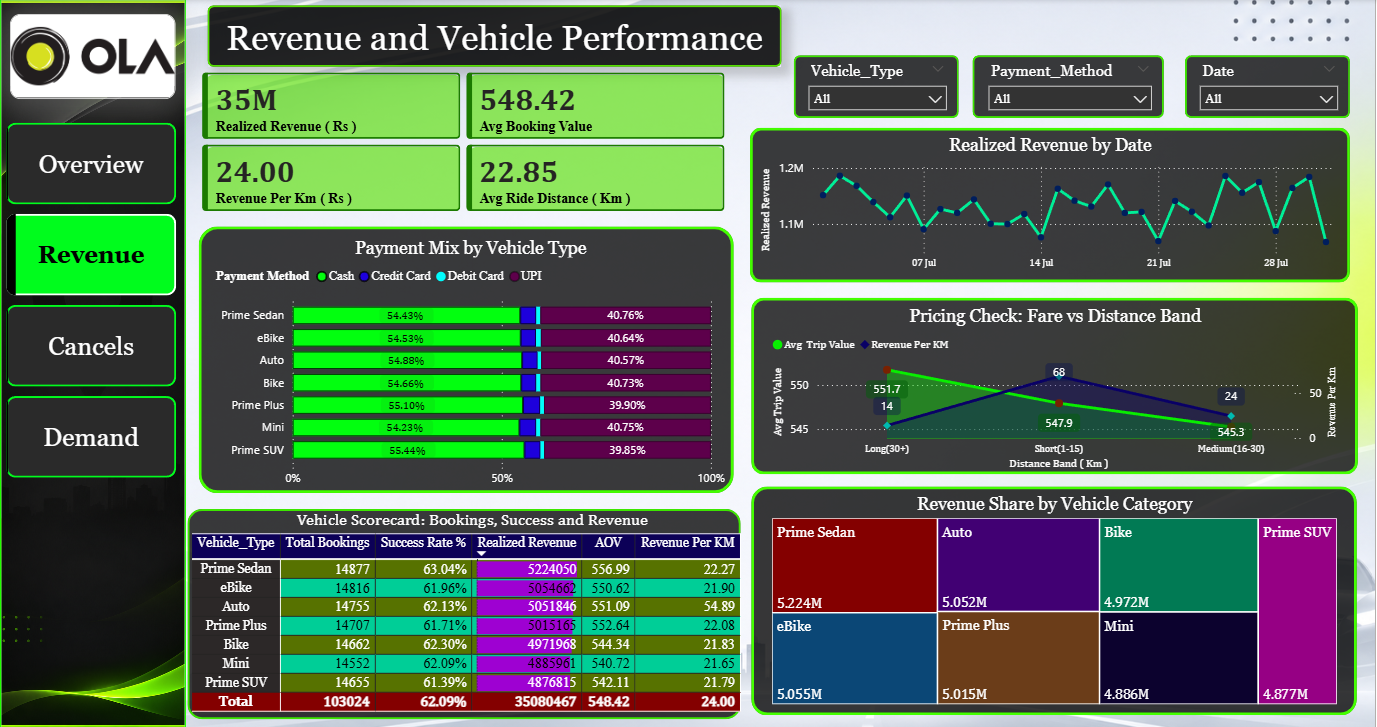

What the dashboard file says about the page in this screenshot:
{"tool":"powerbi","page":{"name":"Revenue","canvas":[1450,768],"ordinal":1},"visuals":[{"type":"image","box":[0,0,195.7,768.6],"z":0,"group":"g10"},{"type":"shape","box":[791.4,514.3,638.1,241.2],"z":0,"group":"g3"},{"type":"shape","box":[197.1,537.1,582.9,221.4],"z":0},{"type":"group","id":"g1","title":"Group 4","box":[0,0,195.7,768.6],"z":1000},{"type":"image","box":[10.5,16,174.8,89.5],"z":1000,"group":"g10"},{"type":"group","id":"g2","title":"Group 5","box":[218.7,6,605.2,65],"z":2000},{"type":"shape","box":[218.7,6,605.2,65],"z":2000,"group":"g2"},{"type":"textbox","box":[221.4,13.4,599.8,57.6],"z":3000,"group":"g2"},{"type":"cardVisual","fields":{"Data":["olaBookings_SQL_ready.Realized Revenue","olaBookings_SQL_ready.AOV","olaBookings_SQL_ready.Revenue Per KM","olaBookings_SQL_ready.Avg Ride Distance"]},"box":[195.7,60,584.3,180],"z":3000},{"type":"shape","box":[790.9,135.1,632.4,163],"z":4000,"group":"g7"},{"type":"shape","box":[210,240,563.6,280.9],"z":4000,"group":"g4"},{"type":"shape","box":[791.4,314.3,639.3,186],"z":4000,"group":"g5"},{"type":"pivotTable","title":"Vehicle Scorecard: Bookings, Success and Revenue","fields":{"Rows":["olaBookings_SQL_ready.Vehicle_Type"],"Values":["olaBookings_SQL_ready.Total Bookings","olaBookings_SQL_ready.Success Rate %","olaBookings_SQL_ready.Realized Revenue","olaBookings_SQL_ready.AOV","olaBookings_SQL_ready.Revenue Per KM"]},"box":[197.4,537,600.5,230.8],"z":4000},{"type":"hundredPercentStackedBarChart","title":"Payment Mix by Vehicle Type","fields":{"Category":["olaBookings_SQL_ready.Vehicle_Type"],"Series":["olaBookings_SQL_ready.Payment_Method"],"Y":["olaBookings_SQL_ready.Successful Bookings"]},"box":[223.3,251.7,546.7,271.7],"z":5000,"group":"g4"},{"type":"group","id":"g3","title":"Group 1","box":[791.4,514.3,638.6,241.4],"z":5000},{"type":"treemap","title":"Revenue Share by Vehicle Category","fields":{"Group":["olaBookings_SQL_ready.Vehicle_Type"],"Values":["olaBookings_SQL_ready.Realized Revenue"]},"box":[808.7,522.2,605.1,226.6],"z":5000,"group":"g3"},{"type":"group","id":"g4","title":"Group 2","box":[210,240,563.6,283.3],"z":6000},{"type":"areaChart","title":"Pricing Check: Fare vs Distance Band","fields":{"Category":["olaBookings_SQL_ready.Distance Band"],"Y":["olaBookings_SQL_ready.AOV"],"Y2":["olaBookings_SQL_ready.Revenue Per KM"]},"box":[808.8,324,606.3,176.3],"z":6000,"group":"g5"},{"type":"lineChart","fields":{"Category":["olaBookings_SQL_ready.Date.Variation.Date Hierarchy.Day"],"Y":["olaBookings_SQL_ready.Realized Revenue"]},"box":[797.4,143.1,619.6,150.1],"z":7000,"group":"g7"},{"type":"group","id":"g5","title":"Group 3","box":[791.4,314.3,638.6,185.7],"z":7000},{"type":"group","id":"g6","title":"Group 3","box":[836.4,59.7,174,66.1],"z":8000,"group":"g8"},{"type":"group","id":"g7","title":"Group 6","box":[790.9,135.1,632.5,162.3],"z":8000},{"type":"group","id":"g8","title":"Group 7","box":[836.4,59.7,587,66.2],"z":9000},{"type":"shape","box":[836.4,59.7,174,66.1],"z":9000,"group":"g6"},{"type":"group","id":"g9","title":"Group 3","box":[1024.9,59.7,201.7,66.1],"z":9000,"group":"g8"},{"type":"shape","box":[1024.9,59.7,201.7,66.1],"z":9000,"group":"g9"},{"type":"shape","box":[1248.9,59.7,174,66.1],"z":9000,"group":"g11"},{"type":"group","id":"g10","title":"Group 8","box":[0,0,195.7,768.6],"z":9001,"group":"g1"},{"type":"group","id":"g11","title":"Group 3","box":[1248.9,59.7,174,66.1],"z":10000,"group":"g8"},{"type":"slicer","fields":{"Values":["olaBookings_SQL_ready.Vehicle_Type"]},"box":[841.7,61.7,166.1,60.2],"z":10000,"group":"g6"},{"type":"slicer","fields":{"Values":["olaBookings_SQL_ready.Payment_Method"]},"box":[1031,61.7,192.5,60.2],"z":10000,"group":"g9"},{"type":"slicer","fields":{"Values":["dim_date.Date.Variation.Date Hierarchy.Day"]},"box":[1254.2,61.7,166.1,60.2],"z":10000,"group":"g11"},{"type":"pageNavigator","box":[7,130.3,179.4,376.9],"z":10000},{"type":"actionButton","box":[9.8,419,175.2,88.3],"z":11000},{"type":"actionButton","box":[8.4,319.5,175.2,88.3],"z":12000},{"type":"actionButton","box":[8.4,130.3,175.2,88.3],"z":13000}]}

Visuals, with their boxes in screenshot pixels (x1, y1, x2, y2), scaled from the page's 1450x768 canvas onto the 1377x727 screenshot:
image: rect(0, 0, 186, 726)
shape: rect(752, 487, 1358, 715)
shape: rect(187, 508, 741, 718)
"Group 4" group: rect(0, 0, 186, 726)
image: rect(10, 15, 176, 100)
"Group 5" group: rect(208, 6, 782, 67)
shape: rect(208, 6, 782, 67)
textbox: rect(210, 13, 780, 67)
cardVisual - olaBookings_SQL_ready.Realized Revenue x olaBookings_SQL_ready.AOV: rect(186, 57, 741, 227)
shape: rect(751, 128, 1352, 282)
shape: rect(199, 227, 735, 493)
shape: rect(752, 298, 1359, 474)
"Vehicle Scorecard: Bookings, Success and Revenue" pivotTable: rect(187, 508, 758, 726)
"Payment Mix by Vehicle Type" hundredPercentStackedBarChart: rect(212, 238, 731, 495)
"Group 1" group: rect(752, 487, 1358, 715)
"Revenue Share by Vehicle Category" treemap: rect(768, 494, 1343, 709)
"Group 2" group: rect(199, 227, 735, 495)
"Pricing Check: Fare vs Distance Band" areaChart: rect(768, 307, 1344, 474)
lineChart - olaBookings_SQL_ready.Date.Variation.Date Hierarchy.Day x olaBookings_SQL_ready.Realized Revenue: rect(757, 135, 1346, 278)
"Group 3" group: rect(752, 298, 1358, 473)
"Group 3" group: rect(794, 57, 960, 119)
"Group 6" group: rect(751, 128, 1352, 282)
"Group 7" group: rect(794, 57, 1352, 119)
shape: rect(794, 57, 960, 119)
"Group 3" group: rect(973, 57, 1165, 119)
shape: rect(973, 57, 1165, 119)
shape: rect(1186, 57, 1351, 119)
"Group 8" group: rect(0, 0, 186, 726)
"Group 3" group: rect(1186, 57, 1351, 119)
slicer - olaBookings_SQL_ready.Vehicle_Type: rect(799, 58, 957, 115)
slicer - olaBookings_SQL_ready.Payment_Method: rect(979, 58, 1162, 115)
slicer - dim_date.Date.Variation.Date Hierarchy.Day: rect(1191, 58, 1349, 115)
pageNavigator: rect(7, 123, 177, 480)
actionButton: rect(9, 397, 176, 480)
actionButton: rect(8, 302, 174, 386)
actionButton: rect(8, 123, 174, 207)
